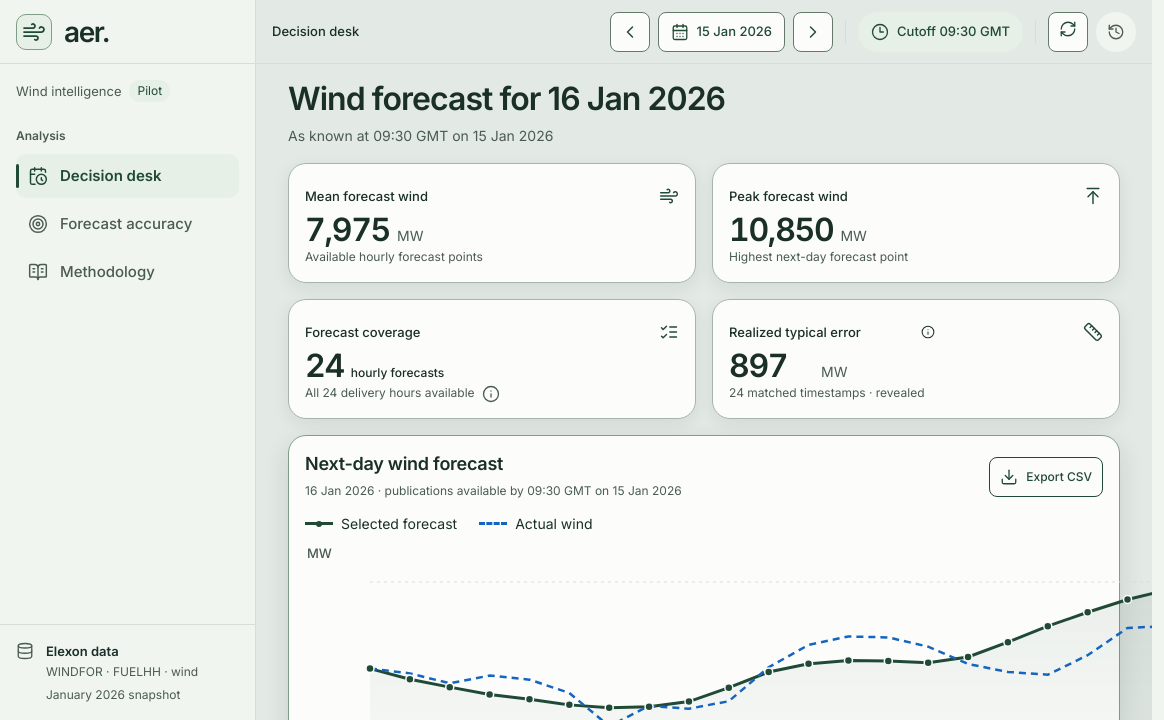
Test case: snapshot cache and outcome interaction › keeps content visible when a manual refresh receives 429 and does not retry
Expected: the heading "Mean forecast wind" is shown, left=305, top=188, right=428, bottom=204
Click the button named "Refresh data".
click(1068, 32)  # box left=1048, top=12, right=1088, bottom=52
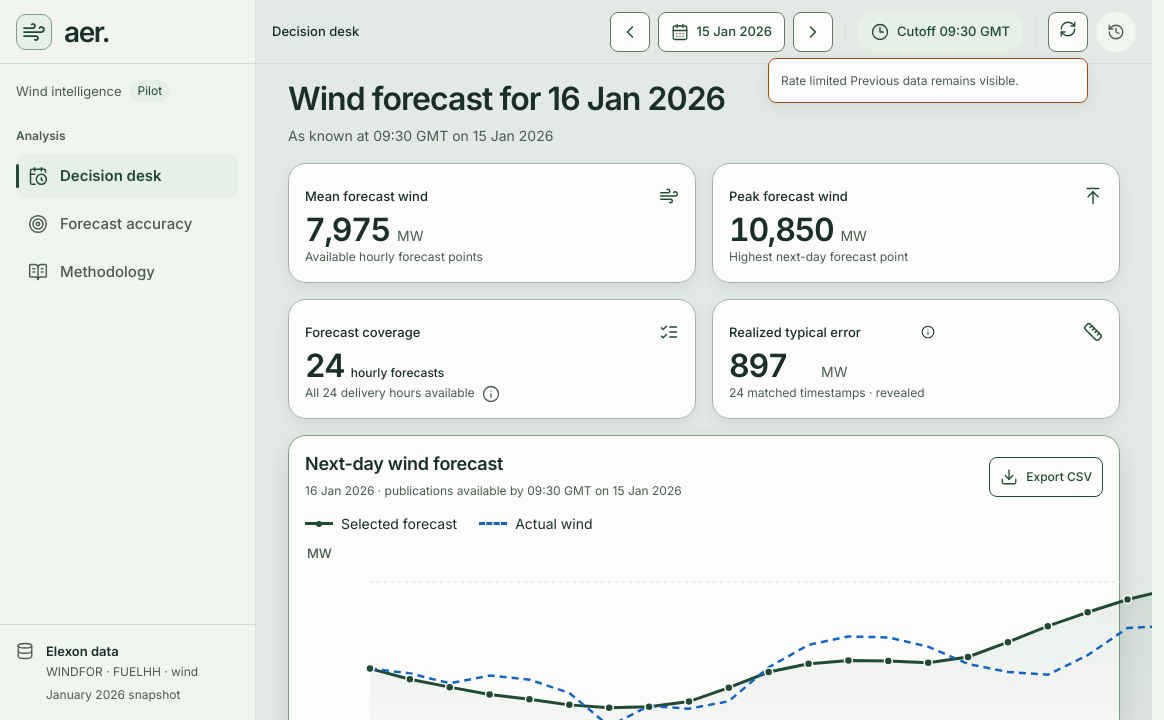
Expected: the text "Rate limited Previous data remains visible." is shown, left=768, top=58, right=1088, bottom=103
